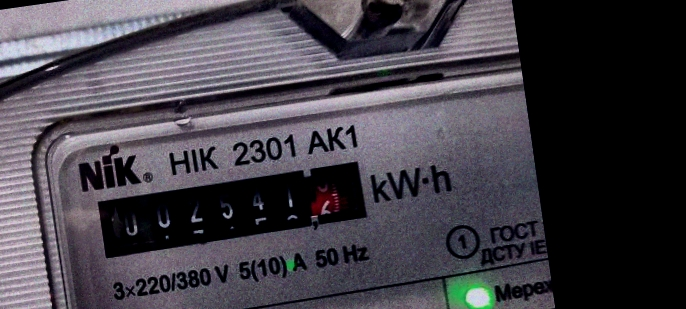0: (151, 196, 174, 231), (121, 207, 142, 238)
1: (277, 176, 297, 211)
2: (181, 191, 207, 227)
4: (246, 181, 268, 214)
5: (215, 189, 236, 222)
6: (315, 195, 334, 218)
screen: (80, 144, 390, 275)
